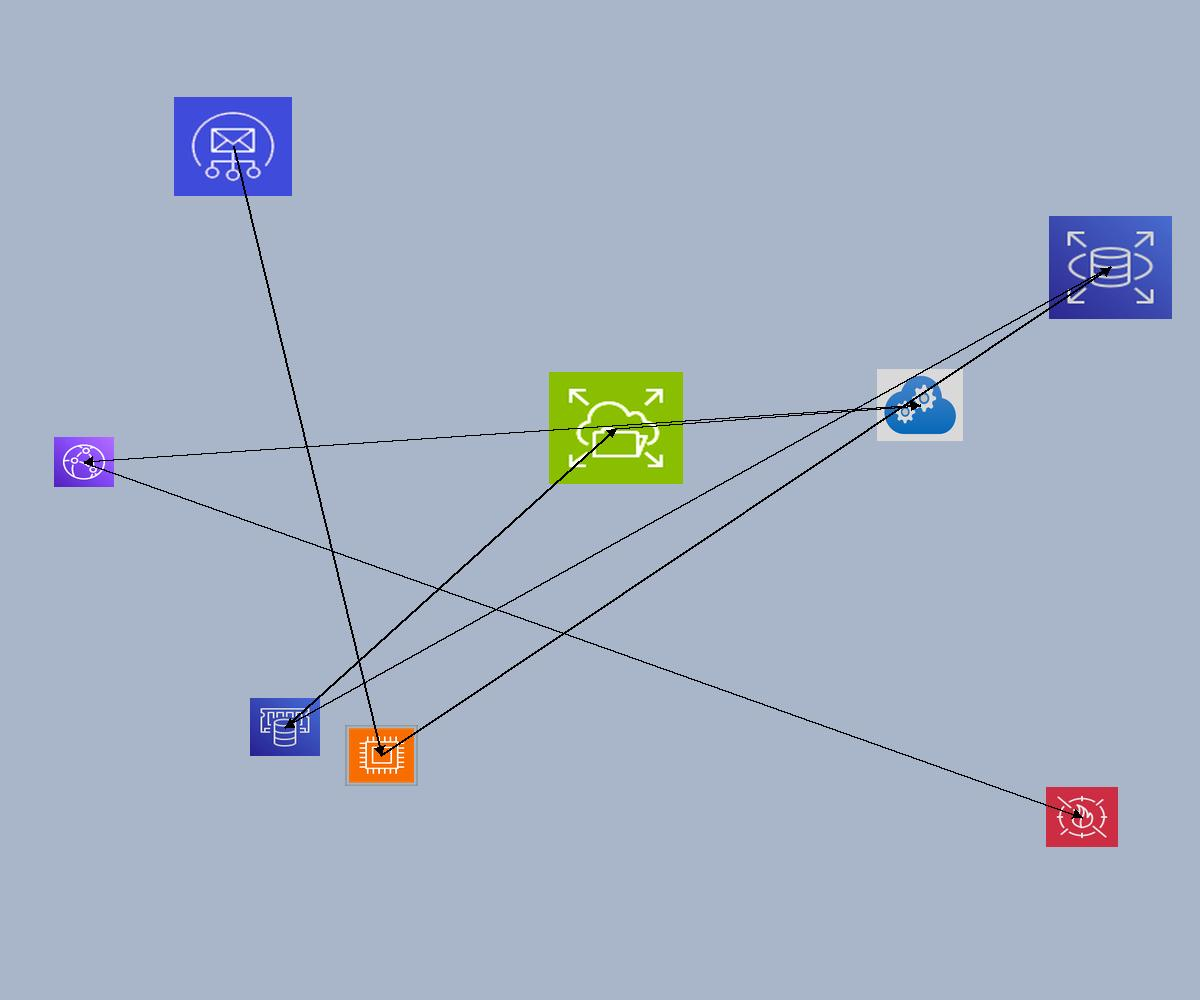AWS-Category_Compute: (345, 725, 418, 786)
AWS-CloudFront: (54, 437, 114, 487)
AWS-EFS: (549, 372, 683, 484)
AWS-ElastiCache: (250, 698, 320, 756)
AWS-RDS: (1049, 216, 1172, 319)
AWS-Simple-Email-Service: (174, 97, 292, 196)
AWS-WAF: (1046, 787, 1118, 847)
Azure_cloud_services: (877, 369, 963, 441)
